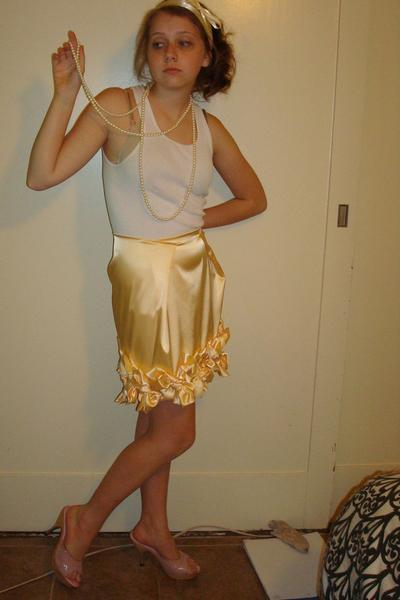shirt: (95, 73, 218, 244)
shoe: (53, 505, 190, 585)
skirt: (107, 235, 231, 410)
